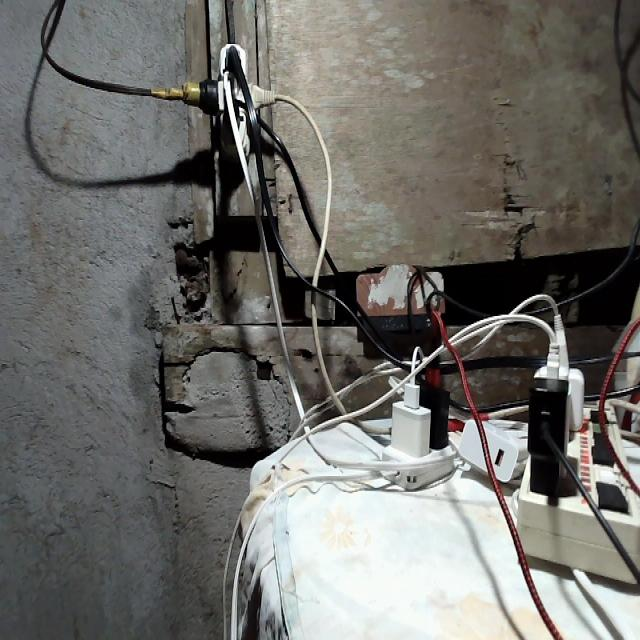-: (159, 39, 301, 164)
